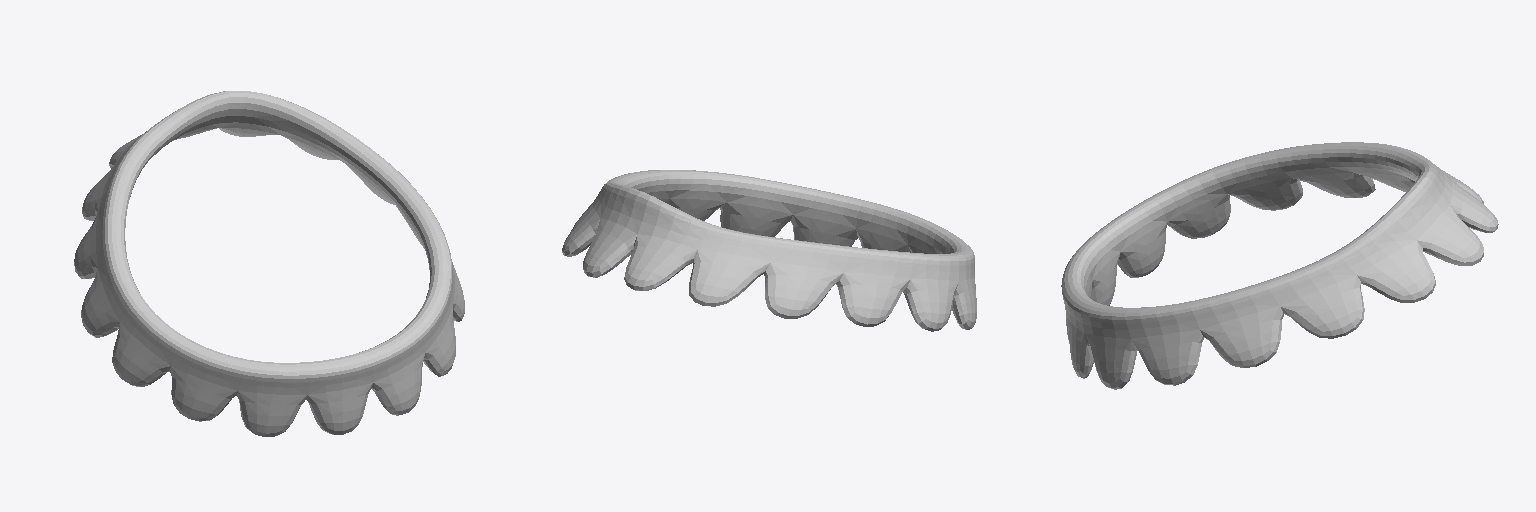
3 renders of one model, left to right at view 1: azimuth 30°, elevation 25°; view 2: azimuth 150°, elevation 25°; view 3: azimuth 270°, elevation 25°, orthographic.
Parts seen in each view (by area): view 1: 8_cancan_dress_body0_model0.008; view 2: 8_cancan_dress_body0_model0.008; view 3: 8_cancan_dress_body0_model0.008.
Part boxes in pixels (x1,y1,x2,y2): 8_cancan_dress_body0_model0.008: (74, 91, 464, 436); 8_cancan_dress_body0_model0.008: (562, 170, 976, 331); 8_cancan_dress_body0_model0.008: (1061, 142, 1498, 389).
Size of the model in its own units: 4.81 by 2.7 by 5.29.